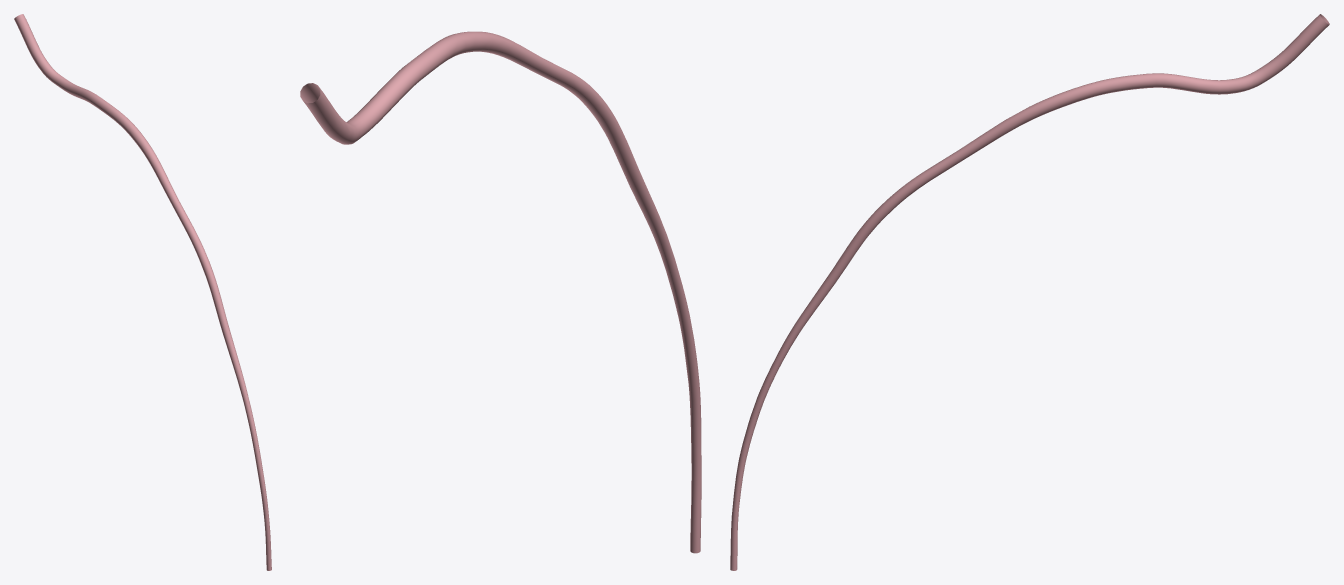
File: circulatorio-deep-artery-of-penis-r.glb
3 views of the same model, side by side, from view 1: azimuth 30°, elevation 25°; view 2: azimuth 150°, elevation 25°; view 3: azimuth 270°, elevation 25° (orthographic). The views are drawn at different scales.
Parts seen in each view (by area): view 1: Deep artery of penis.r; view 2: Deep artery of penis.r; view 3: Deep artery of penis.r.
Boxes of the visible parts, left/top/right/bottom form: Deep artery of penis.r: left=14, top=14, right=271, bottom=570; Deep artery of penis.r: left=300, top=31, right=701, bottom=553; Deep artery of penis.r: left=730, top=14, right=1329, bottom=570.
Size of the model in its own units: 0.00502 by 0.0537 by 0.0544.
